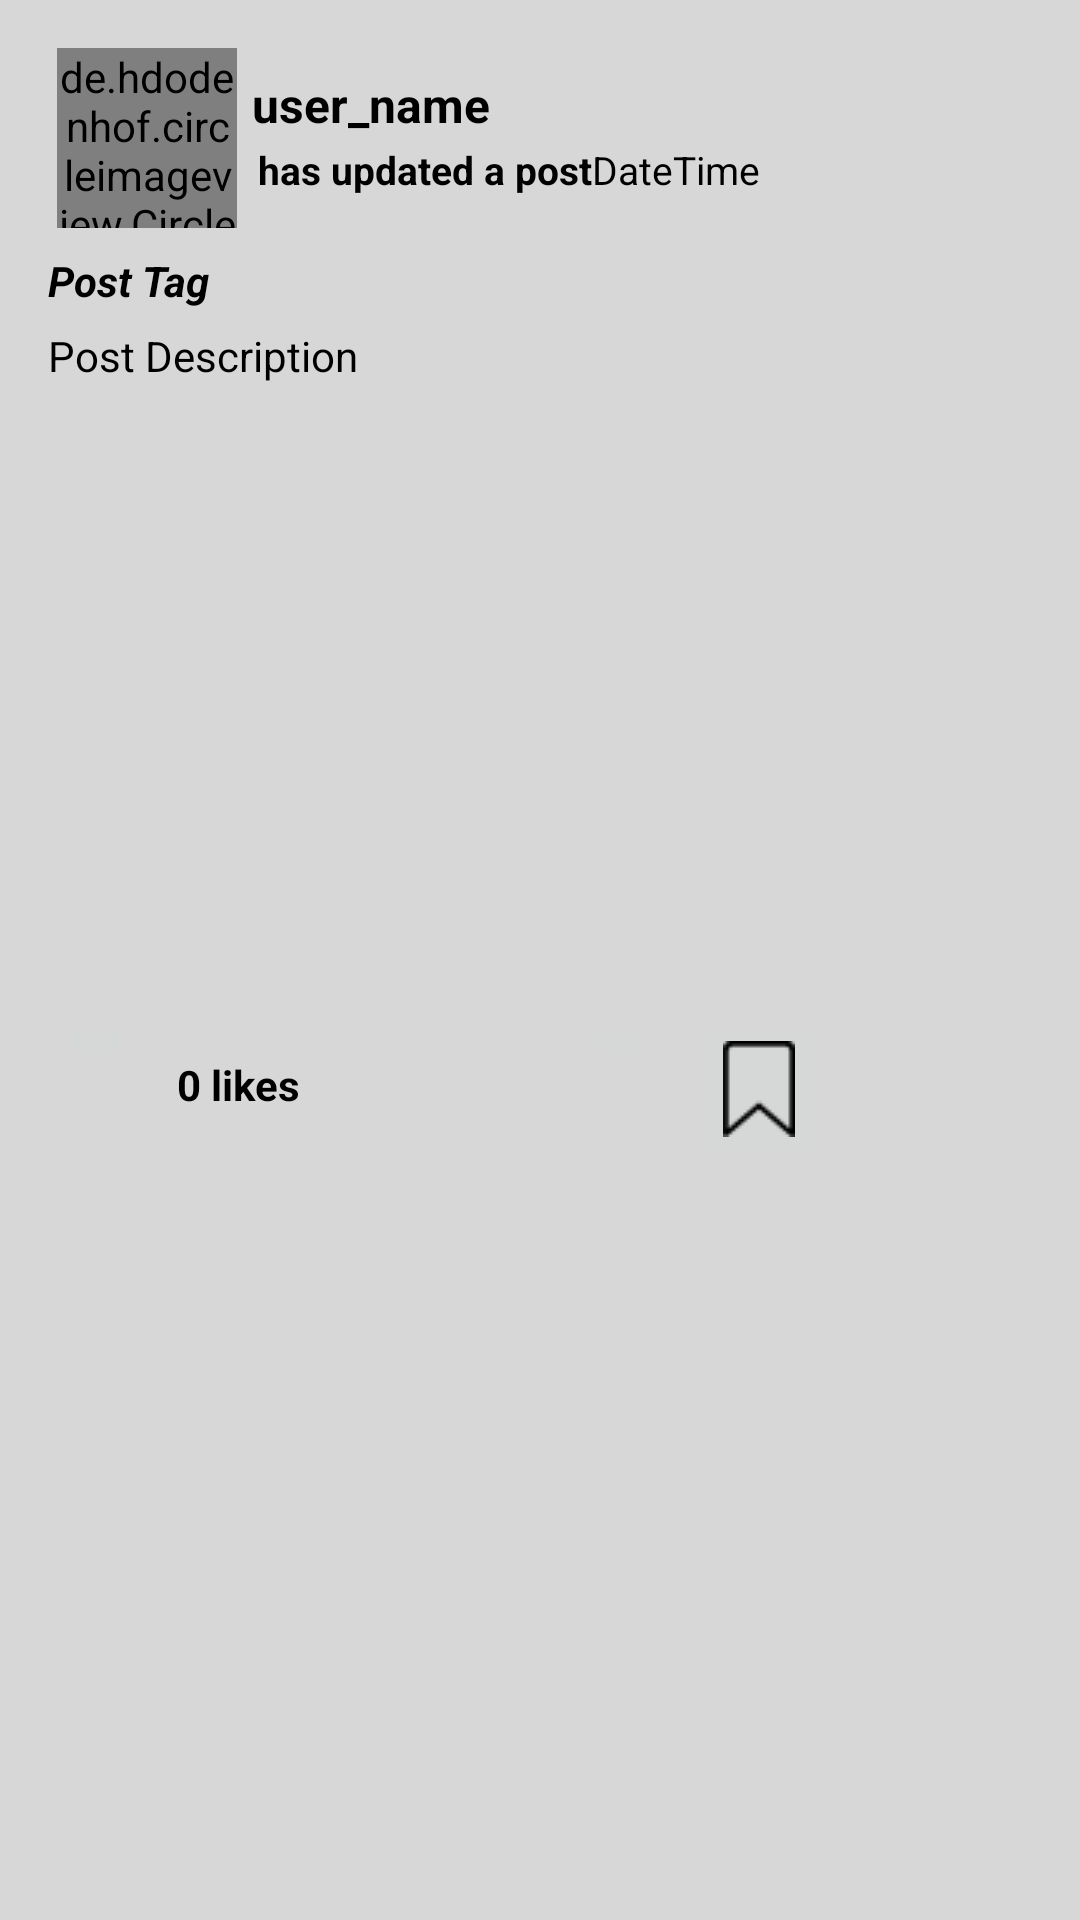

Icons on this 1080 × 1920 Android screen, each with the point to tap as (x,y):
unsave: (759,1089)
